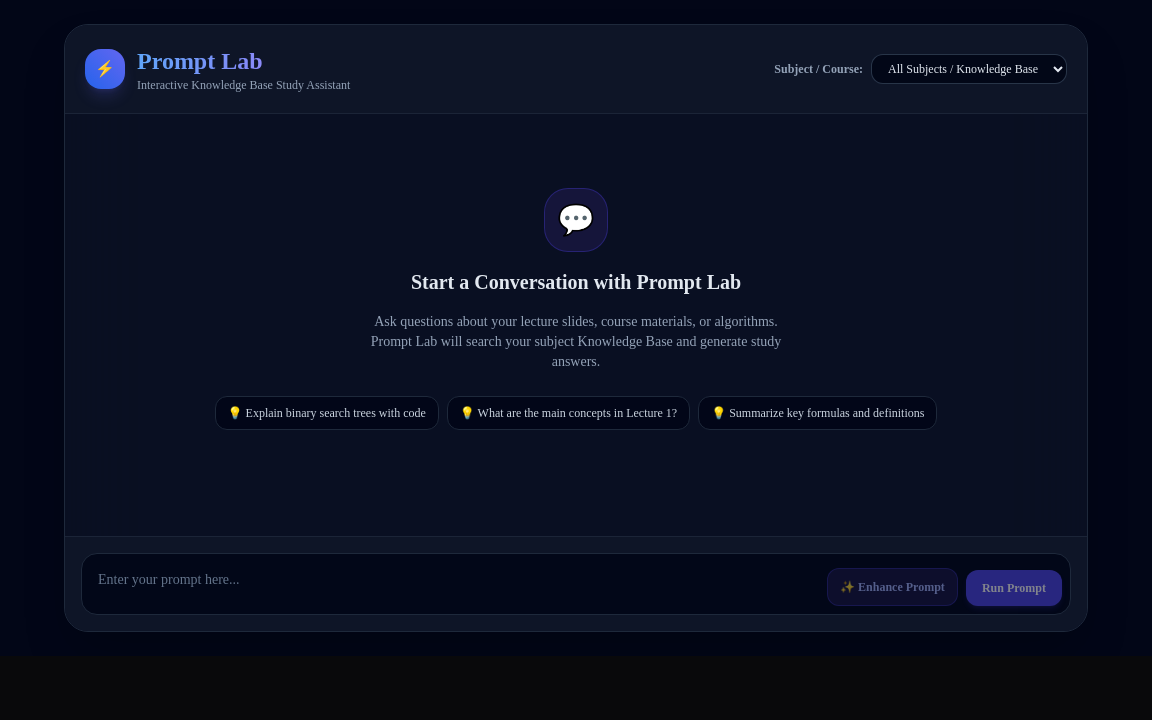
it: PromptLab UI Tests › displays an error message when the API fails
(page scrolled)
Type "What is a graph?" into the text box with placeholder "Enter your prompt here..." at (455, 584), box [90,562,819,606]
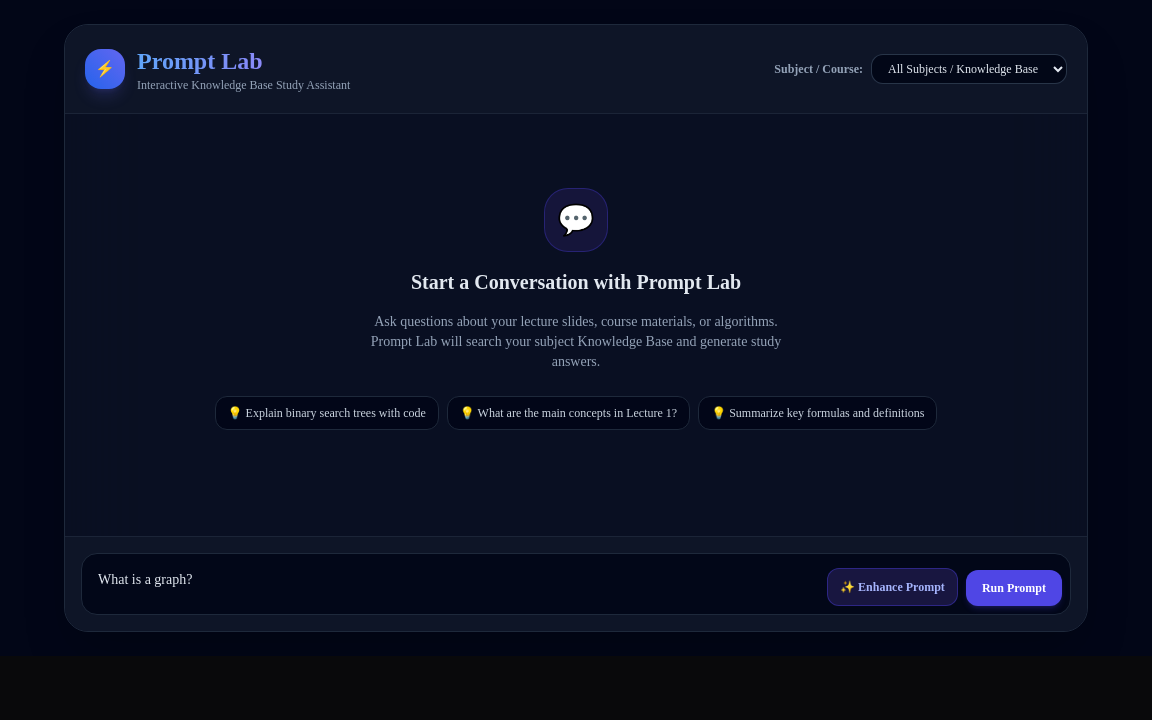
Click the button "Run Prompt" at (1014, 588), box [966,570,1062,606]
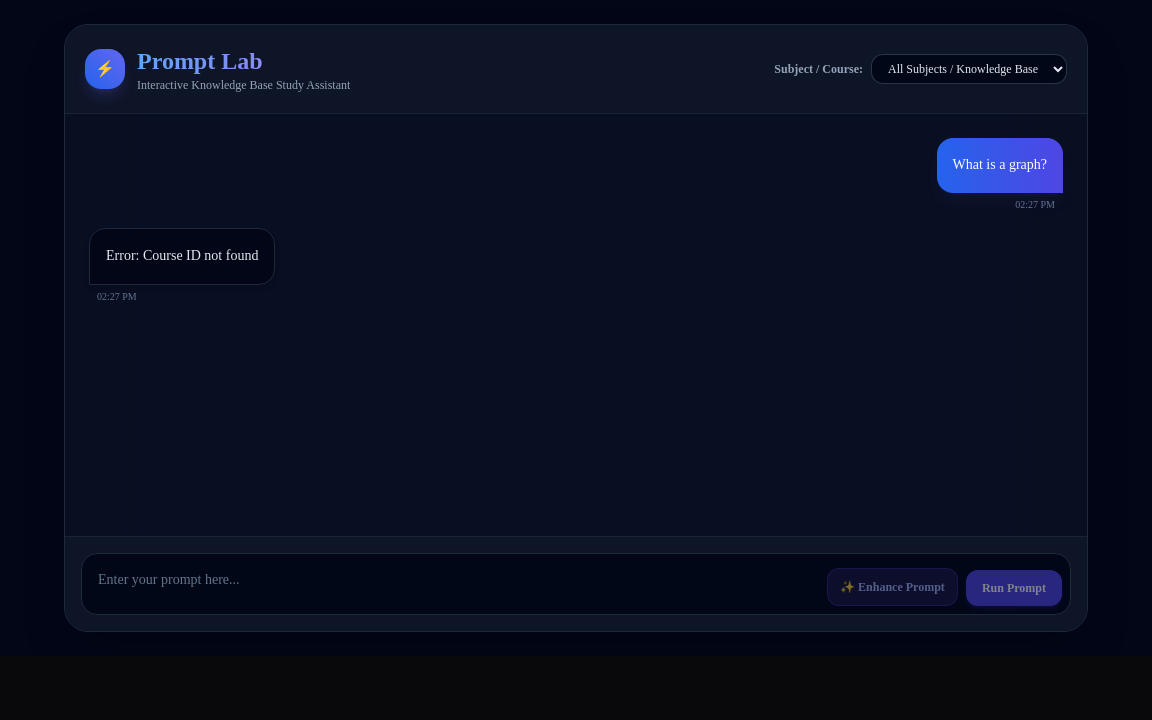
expect the text "Error: Course ID not found" is shown: met, box [106,245,258,268]
